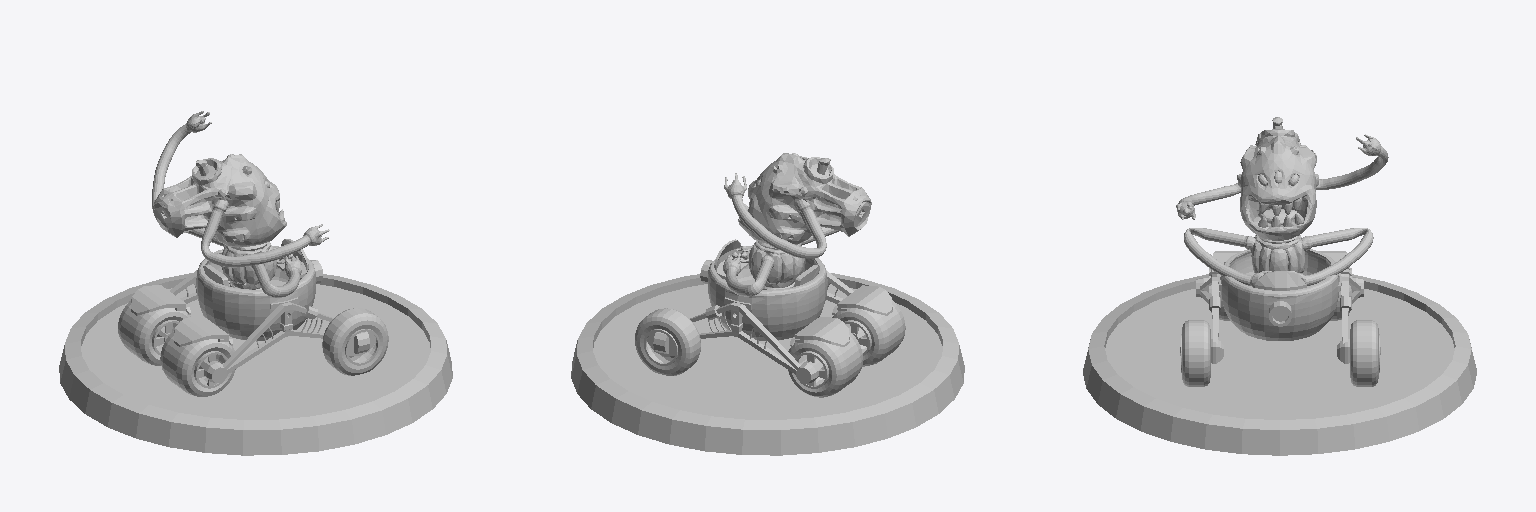
The model's file is selectionoctopus_000013.obj.
3 views of the same model, side by side, from view 1: azimuth 30°, elevation 25°; view 2: azimuth 150°, elevation 25°; view 3: azimuth 270°, elevation 25° (orthographic).
Visible parts, largest first — view 1: platform_low_platform_low.001, head_low, back_wheel_low, body, arm_up_low_arm_down_low.001, front_wheel_low_front_wheel_low.001, wheelprotection, carmature, body_low, arm_down_low_arm_down_low.000, join_back; view 2: platform_low_platform_low.001, head_low, back_wheel_low, body, front_wheel_low_front_wheel_low.001, wheelprotection, arm_up_low_arm_down_low.001, carmature, body_low, arm_down_low_arm_down_low.000, join_back; view 3: platform_low_platform_low.001, head_low, body, front_wheel_low_front_wheel_low.001, arm_down_low_arm_down_low.000, arm_up_low_arm_down_low.001, body_low, carmature, glass, teeth_low.
Boxes of the visible parts, x1=… form: platform_low_platform_low.001: x1=59, y1=273, x2=452, y2=455; head_low: x1=154, y1=154, x2=286, y2=247; back_wheel_low: x1=118, y1=300, x2=235, y2=396; body: x1=196, y1=246, x2=315, y2=340; arm_up_low_arm_down_low.001: x1=152, y1=111, x2=329, y2=267; front_wheel_low_front_wheel_low.001: x1=322, y1=308, x2=388, y2=375; wheelprotection: x1=131, y1=285, x2=232, y2=346; carmature: x1=170, y1=270, x2=333, y2=374; body_low: x1=221, y1=242, x2=276, y2=289; arm_down_low_arm_down_low.000: x1=186, y1=228, x2=301, y2=297; join_back: x1=157, y1=327, x2=226, y2=383; platform_low_platform_low.001: x1=571, y1=273, x2=964, y2=455; head_low: x1=738, y1=153, x2=871, y2=244; back_wheel_low: x1=788, y1=300, x2=905, y2=397; body: x1=708, y1=245, x2=827, y2=340; front_wheel_low_front_wheel_low.001: x1=635, y1=308, x2=700, y2=375; wheelprotection: x1=790, y1=285, x2=892, y2=346; arm_up_low_arm_down_low.001: x1=724, y1=155, x2=826, y2=258; carmature: x1=690, y1=270, x2=853, y2=374; body_low: x1=749, y1=240, x2=804, y2=289; arm_down_low_arm_down_low.000: x1=723, y1=227, x2=838, y2=296; join_back: x1=796, y1=327, x2=866, y2=383; platform_low_platform_low.001: x1=1083, y1=274, x2=1476, y2=455; head_low: x1=1237, y1=117, x2=1318, y2=240; body: x1=1218, y1=249, x2=1342, y2=340; front_wheel_low_front_wheel_low.001: x1=1181, y1=320, x2=1379, y2=386; arm_down_low_arm_down_low.000: x1=1184, y1=228, x2=1373, y2=287; arm_up_low_arm_down_low.001: x1=1176, y1=134, x2=1388, y2=219; body_low: x1=1251, y1=235, x2=1304, y2=273; carmature: x1=1200, y1=277, x2=1360, y2=343; glass: x1=1255, y1=271, x2=1306, y2=290; teeth_low: x1=1258, y1=198, x2=1303, y2=227.
Size of the model in its own units: 13.87 by 9.02 by 13.87.